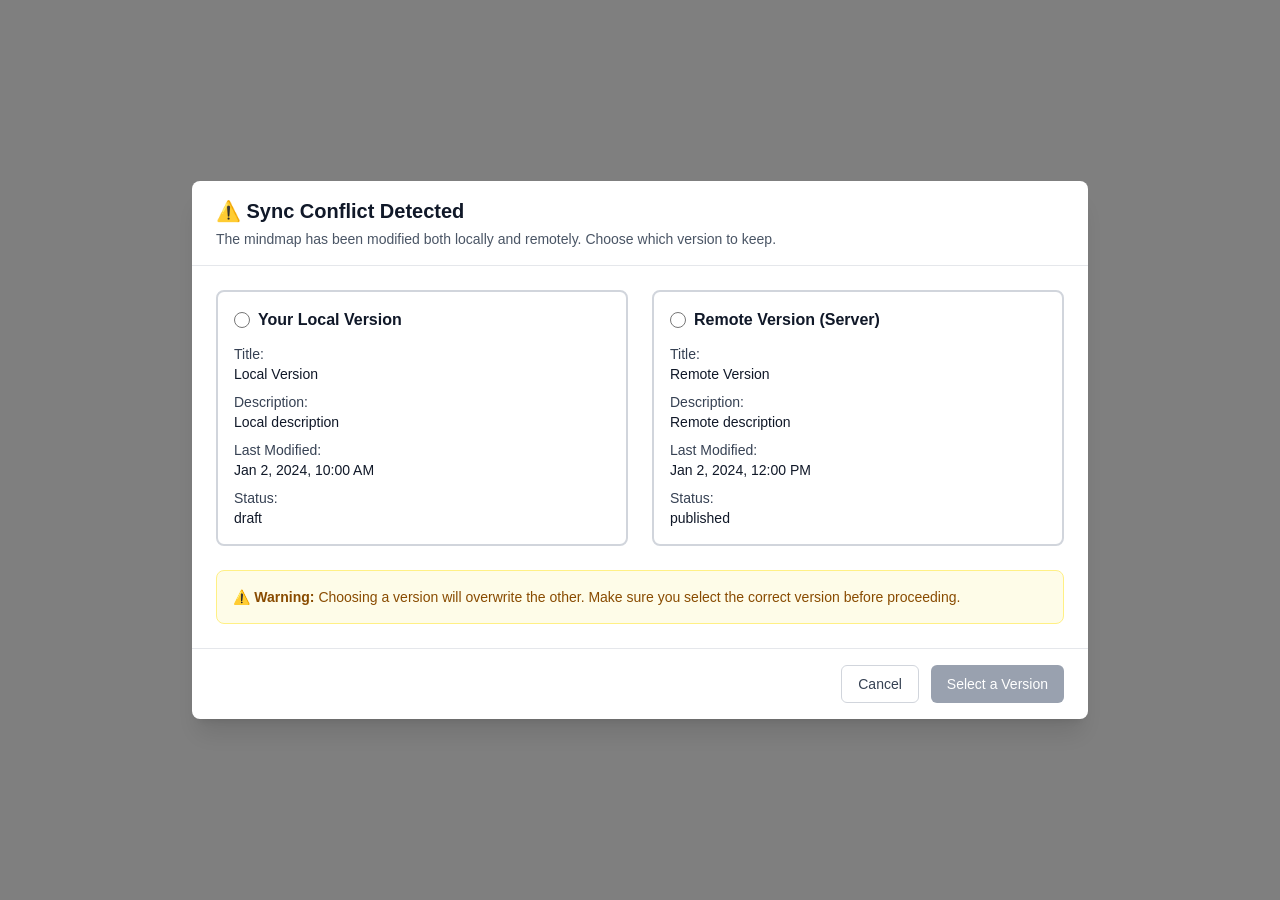
ConflictResolution › should allow selecting remote version
Click the radio button next to "Remote Version (Server)".
click(678, 320)  # box [670, 312, 686, 328]
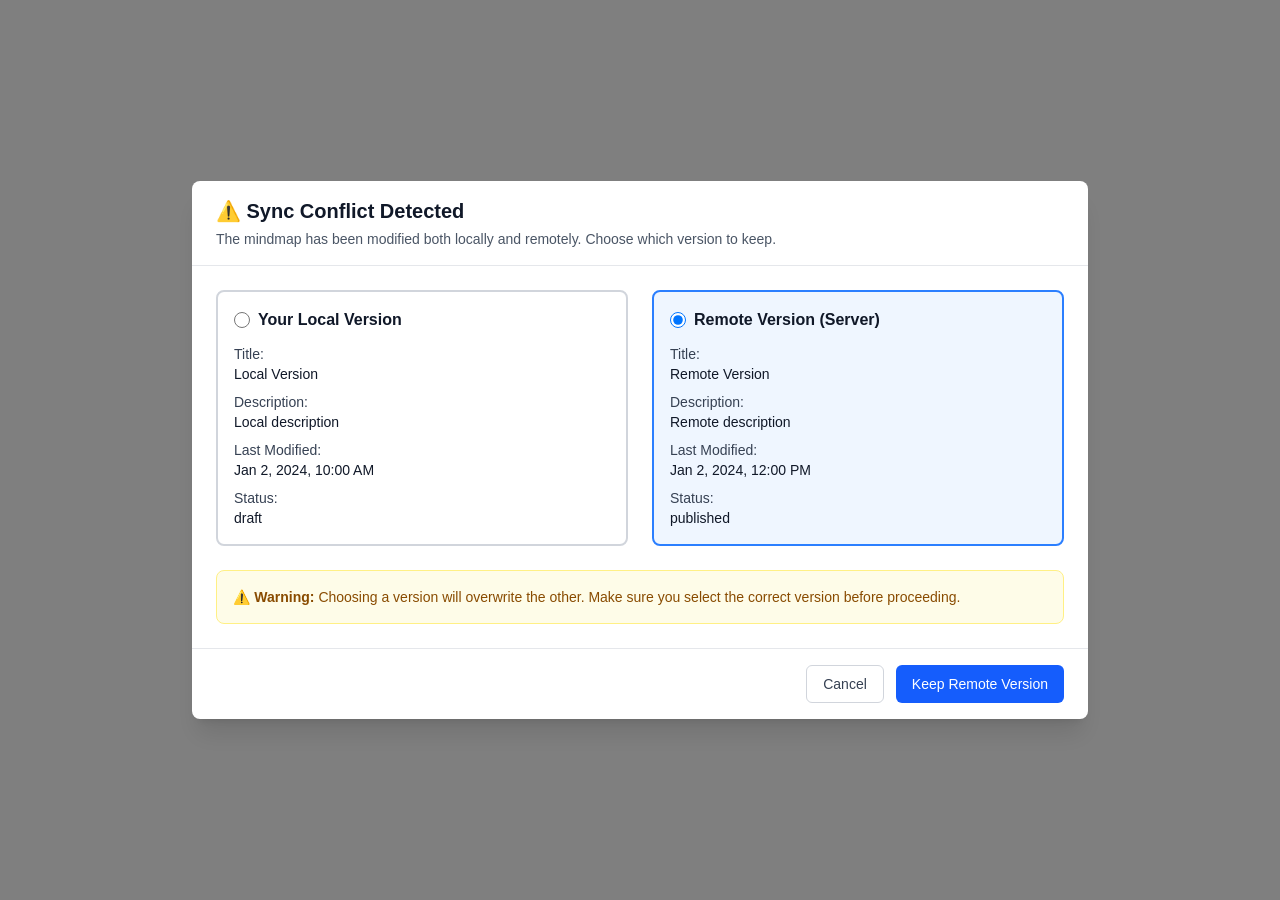
Expected: the radio button next to "Remote Version (Server)" is checked, [670, 312, 686, 328]
Expected: the button "Keep Remote Version" is shown, [896, 665, 1064, 703]
